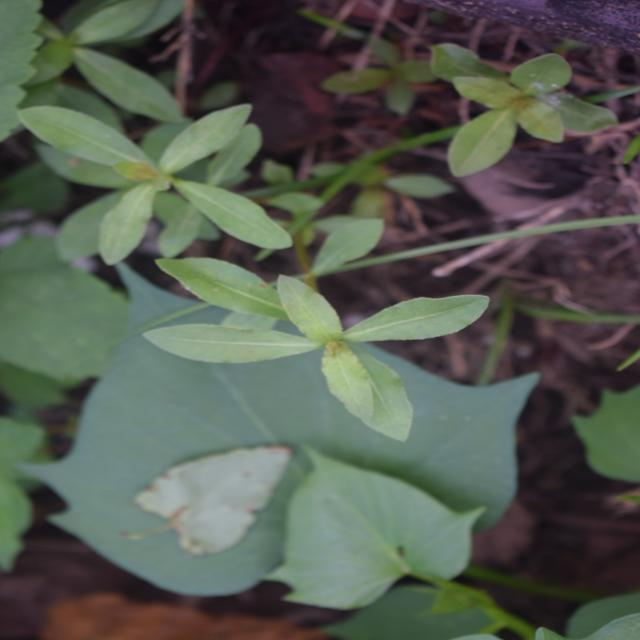Alligatorweed: (199, 162, 407, 502), (392, 0, 568, 290), (457, 434, 595, 590)
